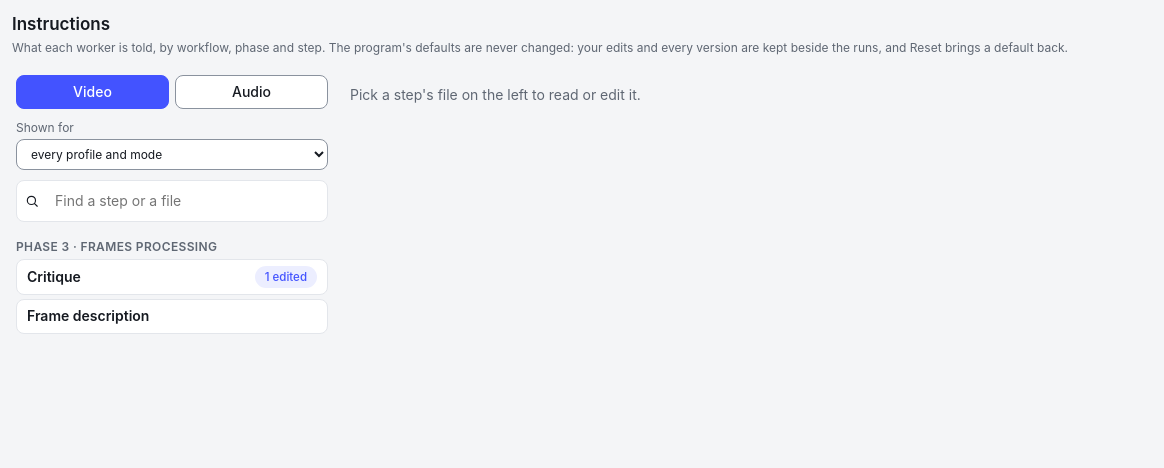
Test case: Instructions › shows a workflow's phases and steps, and a file rendered with its markers drawn as chips
Click the text "Critique" at {"x": 54, "y": 277}, box [27, 267, 81, 288]
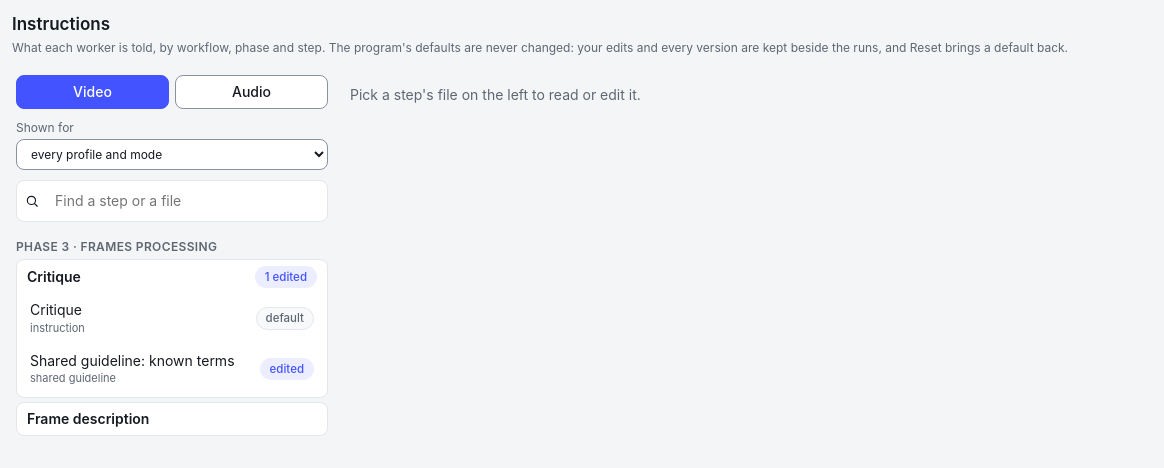
Click the button with aria-label "Critique (instruction), default" at {"x": 56, "y": 310}, box [21, 294, 323, 343]
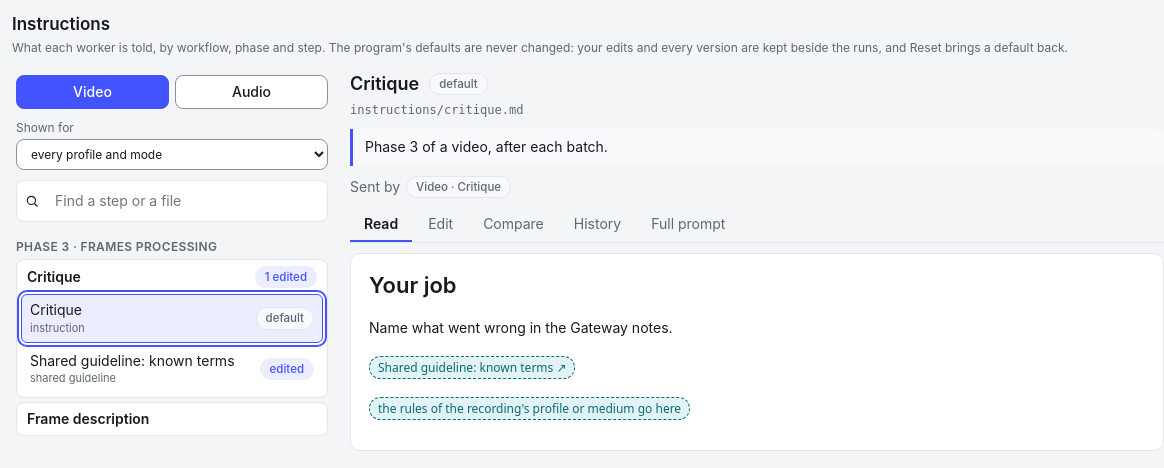
Result: the heading "Critique" is shown at [350, 71, 419, 97]
Result: the text "Phase 3 of a video, after each batch." is shown at [350, 129, 1163, 166]
Result: the text "Name what went wrong in the Gateway notes." is shown at [369, 319, 673, 336]
Click the button "Shared guideline: known terms ↗" at {"x": 472, "y": 367}, box [369, 356, 576, 379]
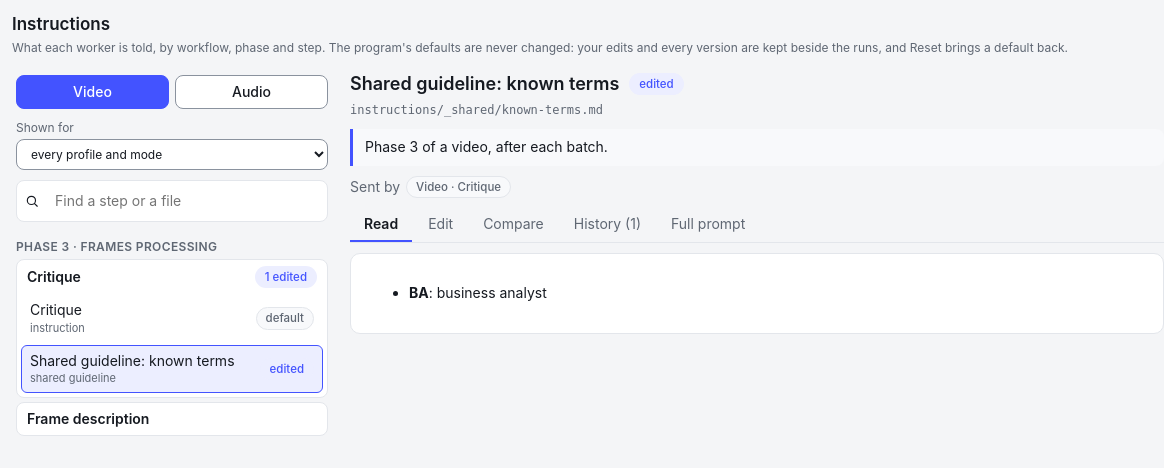
Result: the heading "Shared guideline: known terms" is shown at [350, 71, 619, 97]
